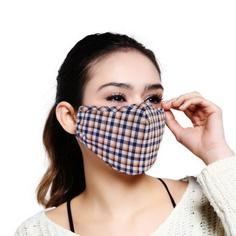OK: (75, 77, 170, 172)
